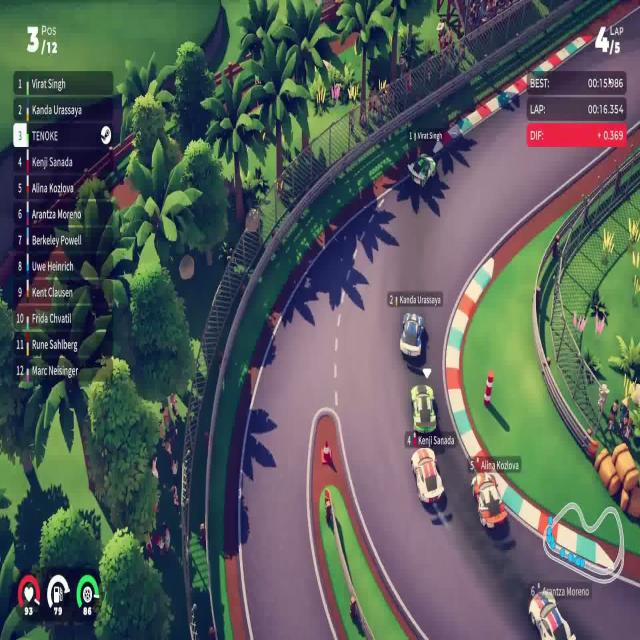car: (471, 470, 508, 532), (410, 446, 444, 506), (410, 383, 437, 435), (399, 311, 425, 360), (408, 152, 437, 190)
